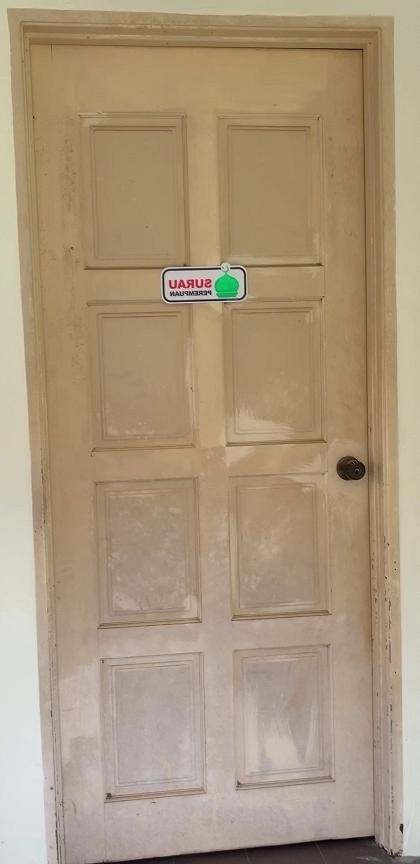door: (3, 12, 377, 858)
